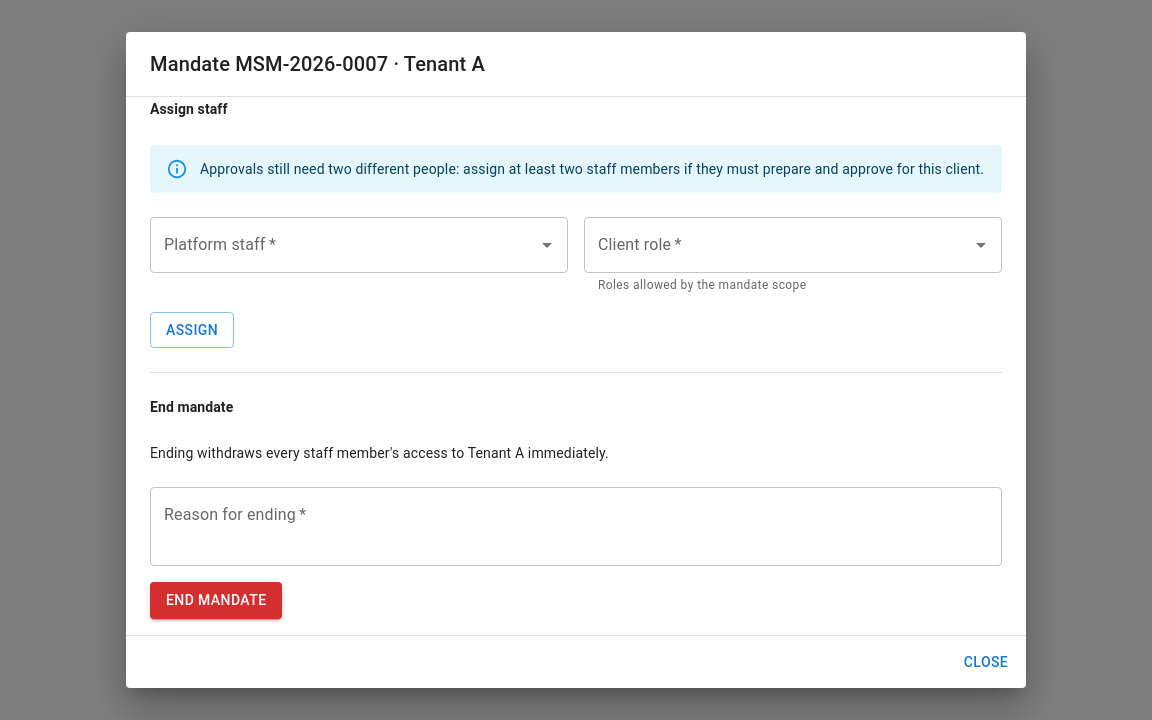
Test: MandateDetailDialog › requires a reason before ending, then sends the version it was decided on
(page scrolled)
Click the button "End mandate".
click(216, 600)  # box left=150, top=582, right=282, bottom=619
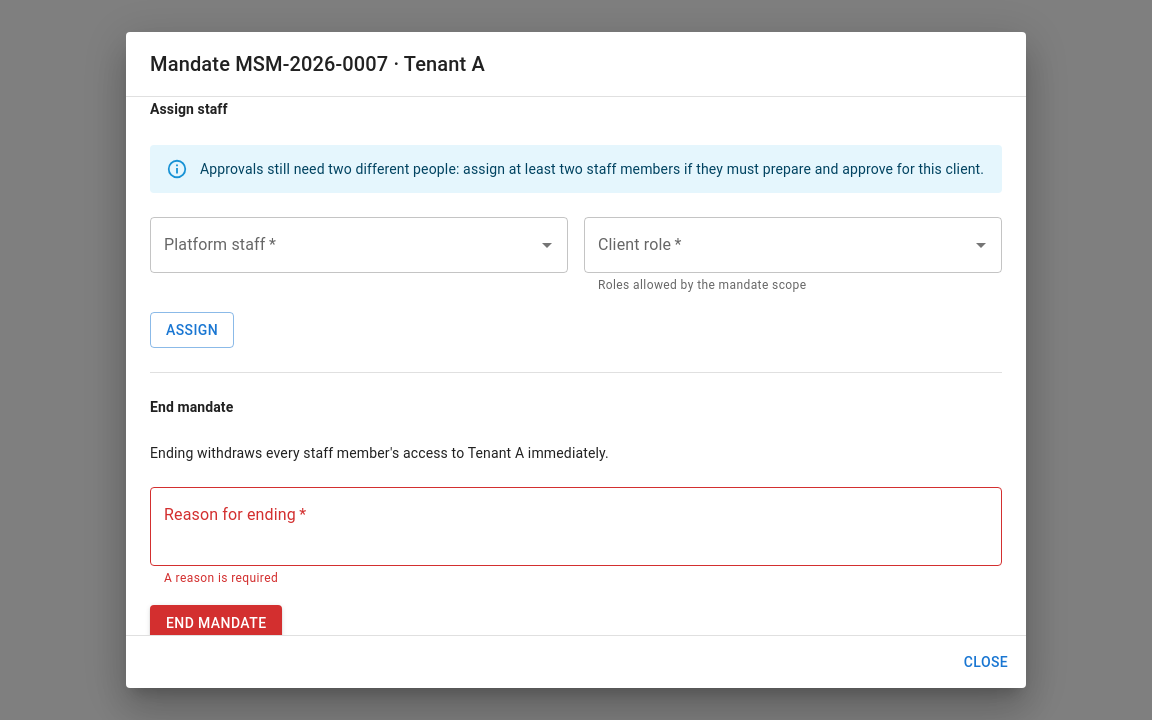
expect the text "A reason is required" is shown: met, box left=164, top=571, right=278, bottom=585
Type "Contract over" into the text box labelled "Reason for ending *".
click(576, 527); type("Contract over")  # box left=164, top=504, right=988, bottom=550
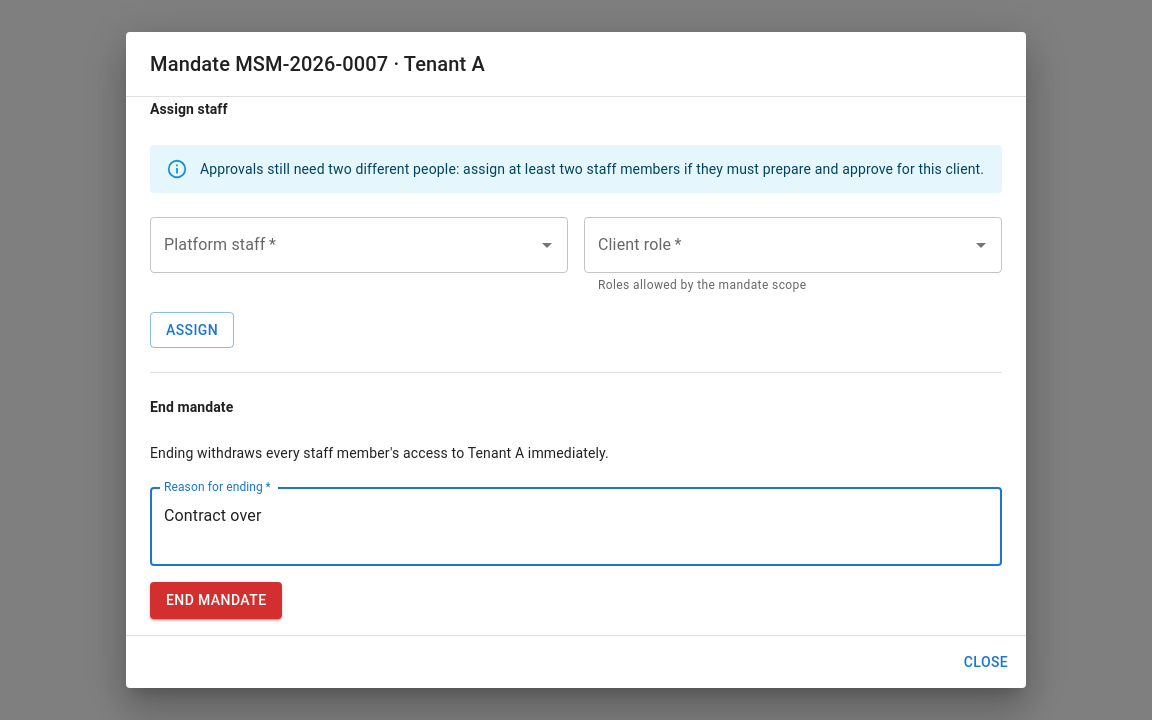
Click the button "End mandate".
click(216, 600)  # box left=150, top=582, right=282, bottom=619
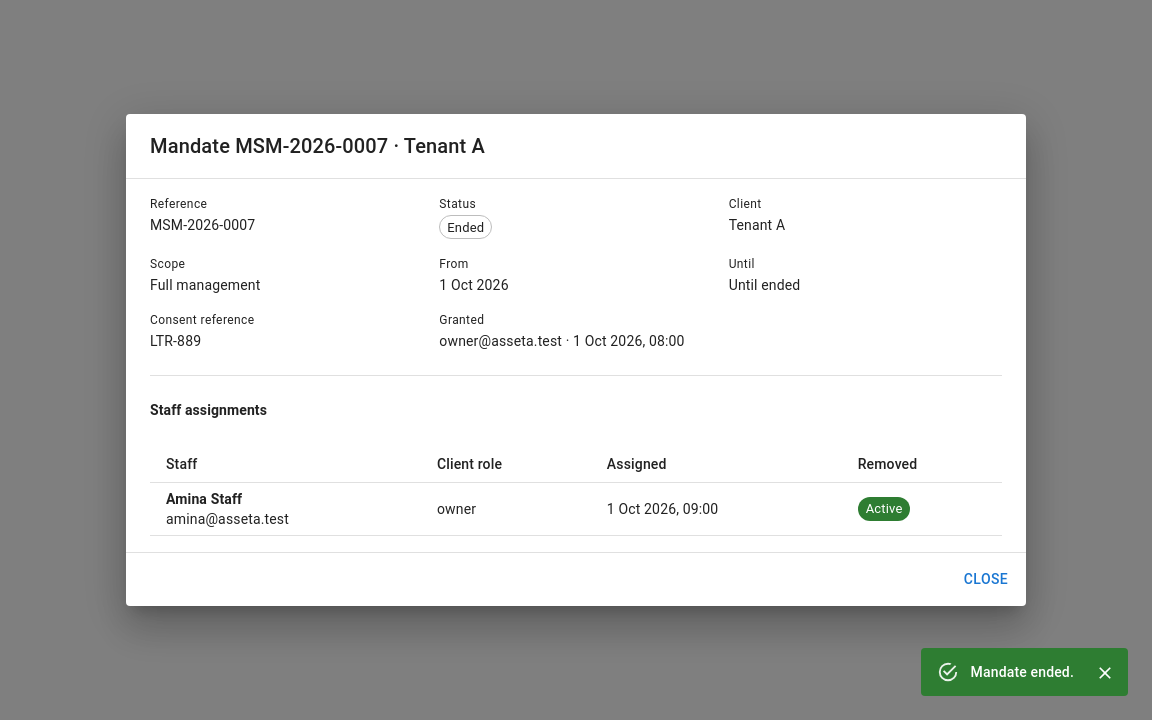
expect the heading "End mandate" is gone: met
